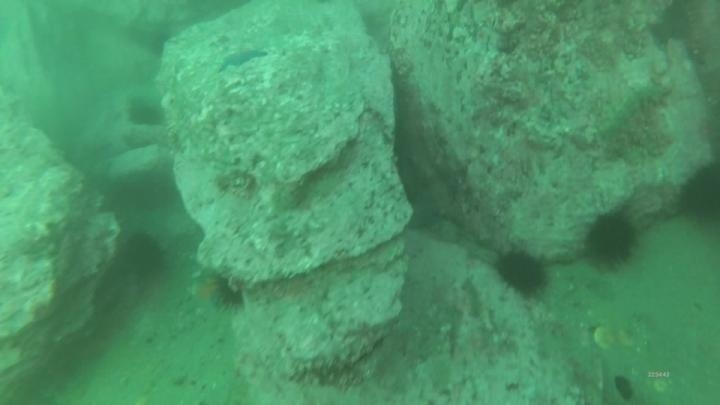echinus: (582, 209, 641, 269), (676, 159, 720, 227), (493, 247, 550, 298), (120, 230, 169, 281), (125, 98, 166, 130)
holothurian: (593, 79, 669, 140)
starfish: (183, 270, 229, 314), (216, 43, 269, 72)
